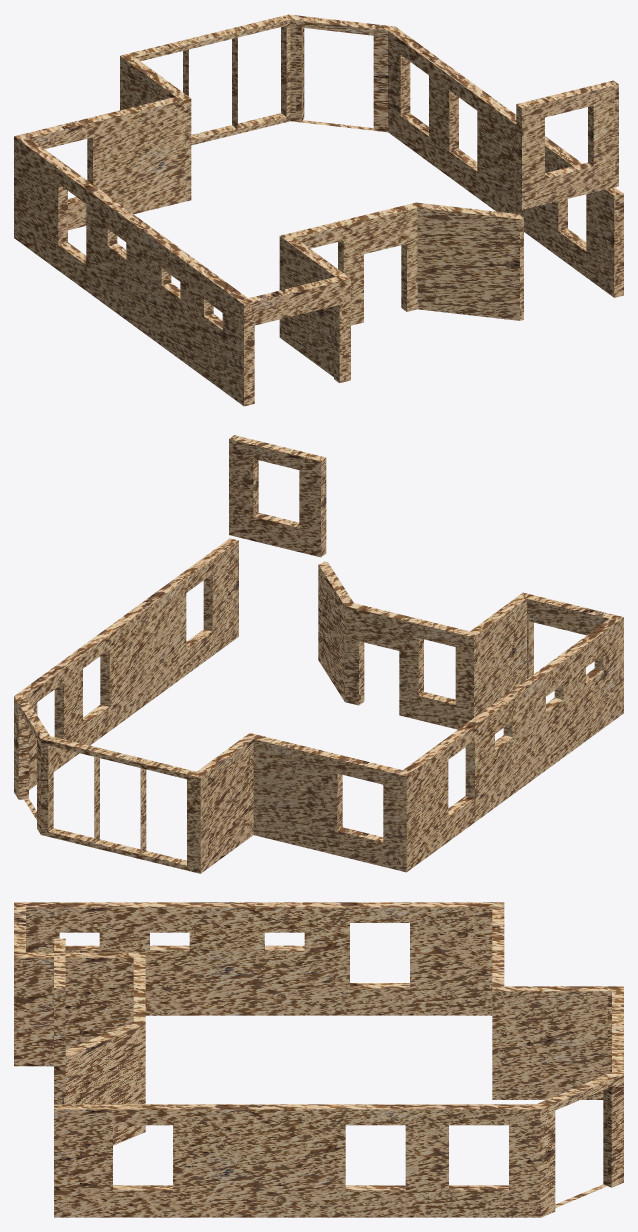
The model's file is firstFloor.dae.
The picture shows the model from 3 angles, top to bottom: view 1: azimuth 30°, elevation 25°; view 2: azimuth 150°, elevation 25°; view 3: azimuth 270°, elevation 25°; orthographic projection. The views are drawn at different scales.
Parts seen in each view (by area): view 1: external-wall-1; view 2: external-wall-1; view 3: external-wall-1.
Part boxes in pixels (bbox=[...]): external-wall-1: bbox=[14, 14, 623, 406]; external-wall-1: bbox=[14, 435, 623, 873]; external-wall-1: bbox=[14, 902, 623, 1217].
Size of the model in its own units: 12.3 by 15.3 by 6.26.
1 material, 1 textured.
